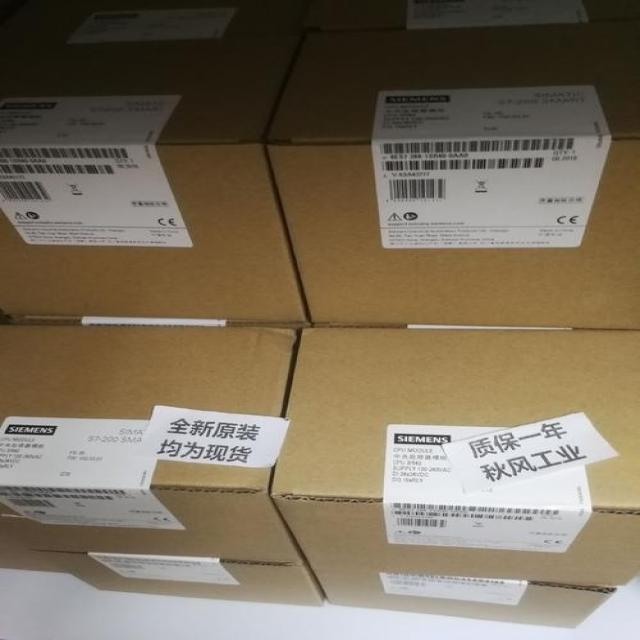box: (260, 0, 640, 332), (0, 0, 317, 321), (266, 323, 640, 584), (0, 316, 308, 564), (306, 565, 623, 628), (26, 548, 328, 607)
